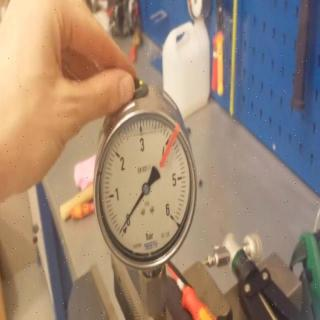gauge: (95, 104, 197, 274), (115, 214, 134, 242), (164, 204, 184, 228), (142, 185, 150, 193), (118, 229, 123, 235)
